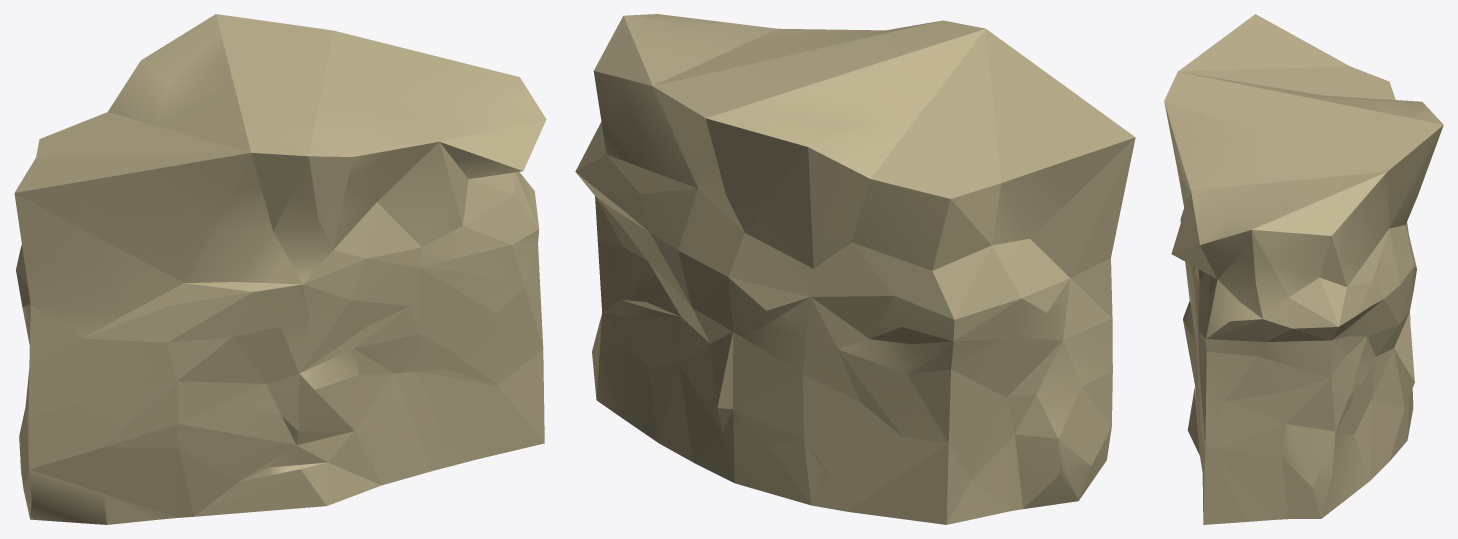
Rendered from LowCliff.fbx.
3 renders of one model, left to right at view 1: azimuth 30°, elevation 25°; view 2: azimuth 150°, elevation 25°; view 3: azimuth 270°, elevation 25°, orthographic. The views are drawn at different scales.
Parts seen in each view (by area): view 1: BackgroundCliff1; view 2: BackgroundCliff1; view 3: BackgroundCliff1.
Part boxes in pixels (x1=…): BackgroundCliff1: x1=14, y1=14, x2=546, y2=524; BackgroundCliff1: x1=575, y1=14, x2=1135, y2=524; BackgroundCliff1: x1=1164, y1=14, x2=1443, y2=524.
Bounding box in the file's own units: 36.83 × 26.07 × 20.36.
